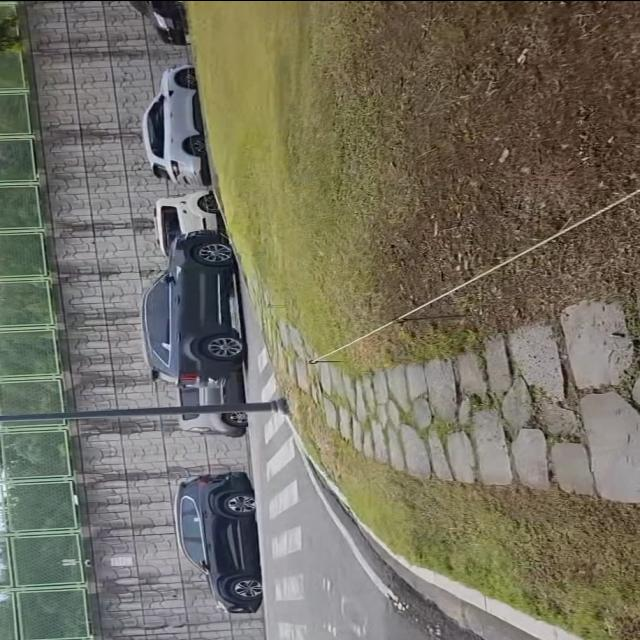obstacle: (143, 216, 253, 393)
road: (237, 275, 538, 640)
